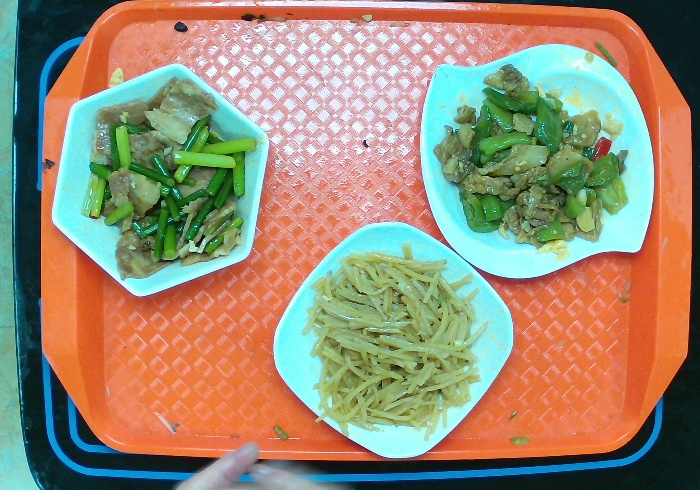RJxy-Liu_Jiao_Wan: (48, 60, 275, 305)
RJxy-Shuang_Jiao_Pan: (417, 41, 660, 283)
RJxy-Si_Fang_Wan: (270, 215, 517, 471)
